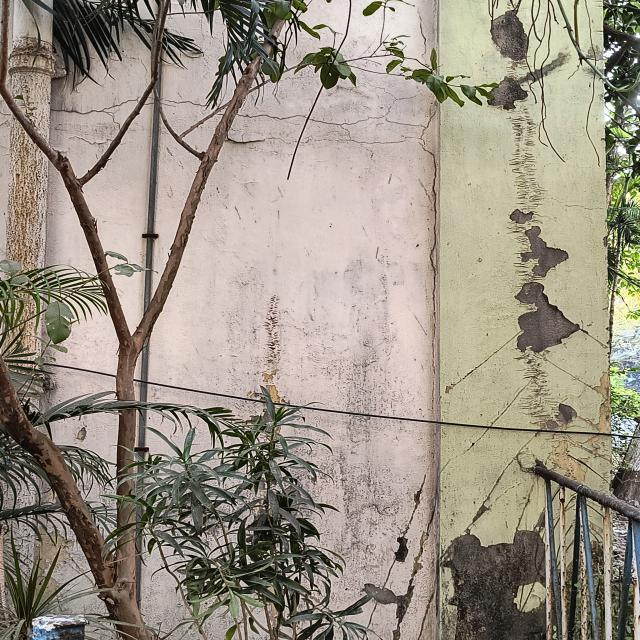crack: (418, 128, 439, 371), (358, 75, 418, 125), (56, 111, 119, 146)
peeling: (509, 192, 580, 399), (443, 530, 545, 640), (231, 113, 432, 160), (490, 9, 529, 71), (545, 440, 592, 480), (488, 73, 528, 111), (513, 154, 539, 190)
